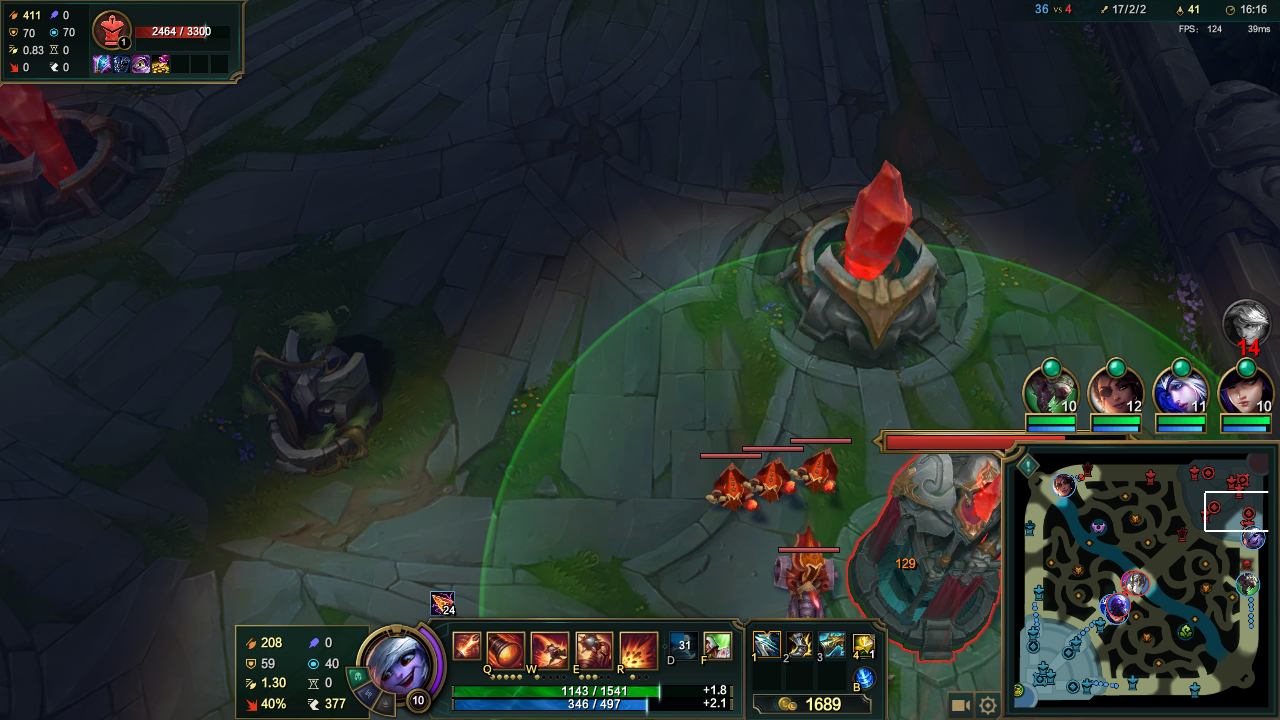DFFYT: (874, 451, 988, 656)
DFSJ: (791, 178, 949, 351)
DFXB: (773, 533, 842, 605), (703, 462, 754, 517), (788, 450, 839, 502), (742, 451, 789, 503)
